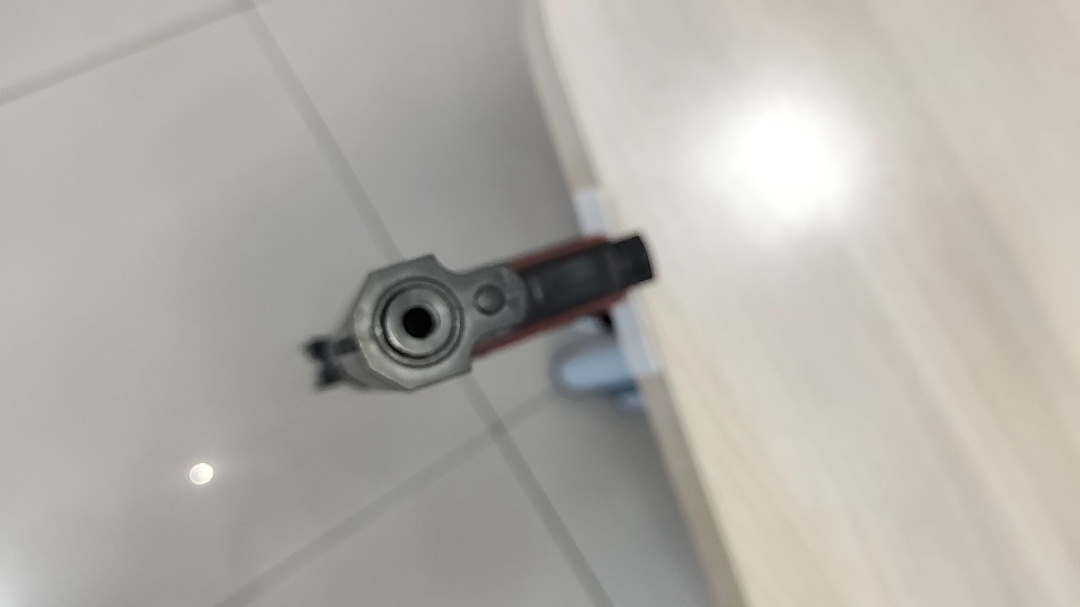gun: (264, 231, 445, 338)
